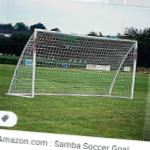goals: (5, 28, 138, 105)
